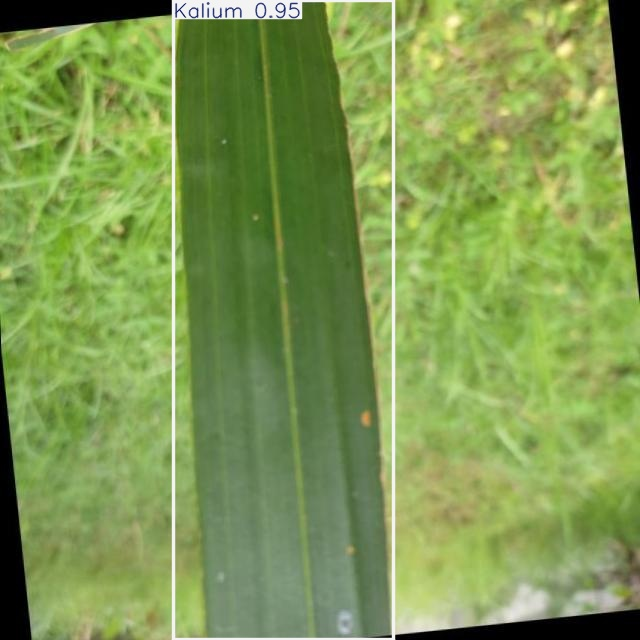Kalium: (174, 0, 393, 640)
